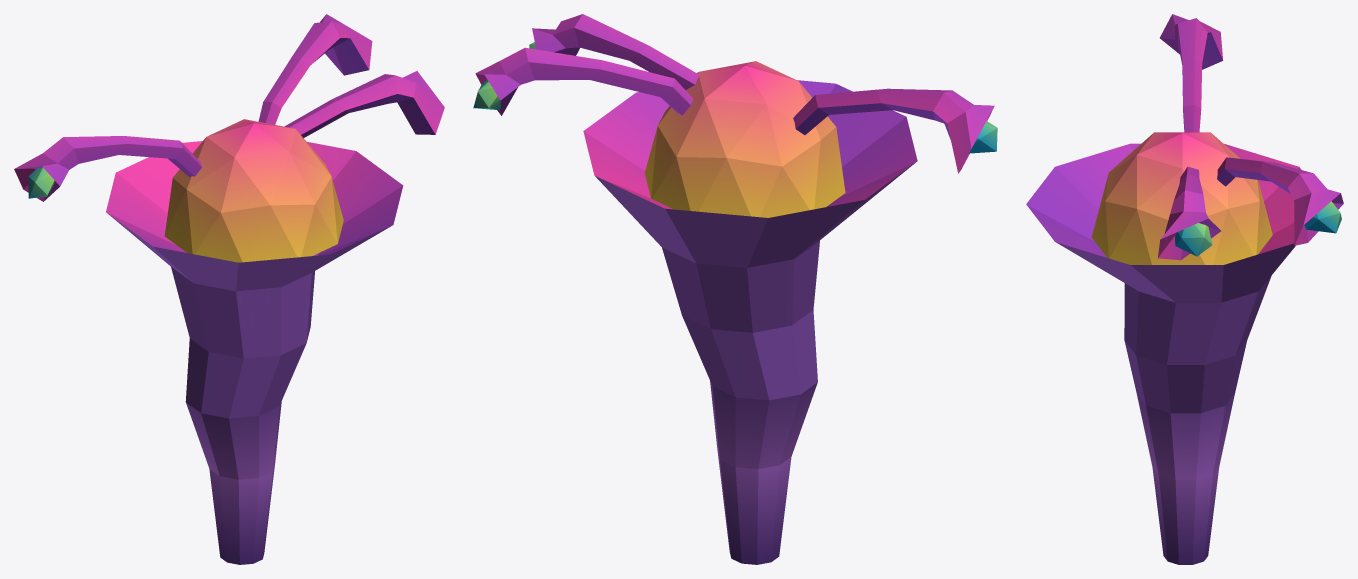
The model's file is SM_Tree_A_01.fbx.
The picture shows the model from 3 angles, left to right: view 1: azimuth 30°, elevation 25°; view 2: azimuth 150°, elevation 25°; view 3: azimuth 270°, elevation 25°; orthographic projection. The views are drawn at different scales.
Visible parts, largest first — view 1: TreeTrunk.001, TreeBall.001, TreeBranch.003, TreeBranch.005, TreeBranch.004, TreeFruit.005; view 2: TreeTrunk.001, TreeBall.001, TreeBranch.005, TreeBranch.004, TreeBranch.003; view 3: TreeTrunk.001, TreeBall.001, TreeBranch.004, TreeBranch.005, TreeBranch.003, TreeFruit.003, TreeFruit.004.
Boxes of the visible parts, x1=… form: TreeTrunk.001: x1=106, y1=141, x2=403, y2=564; TreeBall.001: x1=164, y1=119, x2=343, y2=262; TreeBranch.003: x1=284, y1=71, x2=444, y2=137; TreeBranch.005: x1=14, y1=136, x2=201, y2=201; TreeBranch.004: x1=258, y1=14, x2=372, y2=124; TreeFruit.005: x1=28, y1=167, x2=54, y2=198; TreeTrunk.001: x1=583, y1=80, x2=917, y2=564; TreeBall.001: x1=644, y1=61, x2=845, y2=217; TreeBranch.005: x1=793, y1=88, x2=994, y2=173; TreeBranch.004: x1=475, y1=47, x2=692, y2=115; TreeBranch.003: x1=532, y1=14, x2=698, y2=89; TreeTrunk.001: x1=1026, y1=143, x2=1301, y2=564; TreeBall.001: x1=1091, y1=132, x2=1272, y2=264; TreeBranch.004: x1=1217, y1=157, x2=1343, y2=245; TreeBranch.005: x1=1160, y1=14, x2=1223, y2=132; TreeBranch.003: x1=1158, y1=166, x2=1221, y2=260; TreeFruit.003: x1=1175, y1=223, x2=1212, y2=256; TreeFruit.004: x1=1304, y1=201, x2=1341, y2=233.
Bounding box in the file's own units: 215 × 316 × 338.
